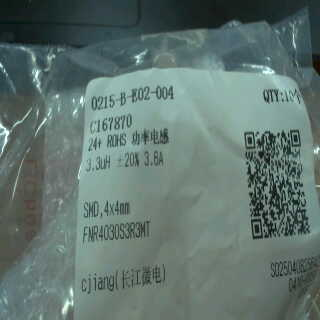3.3uH: (83, 153, 116, 173)
